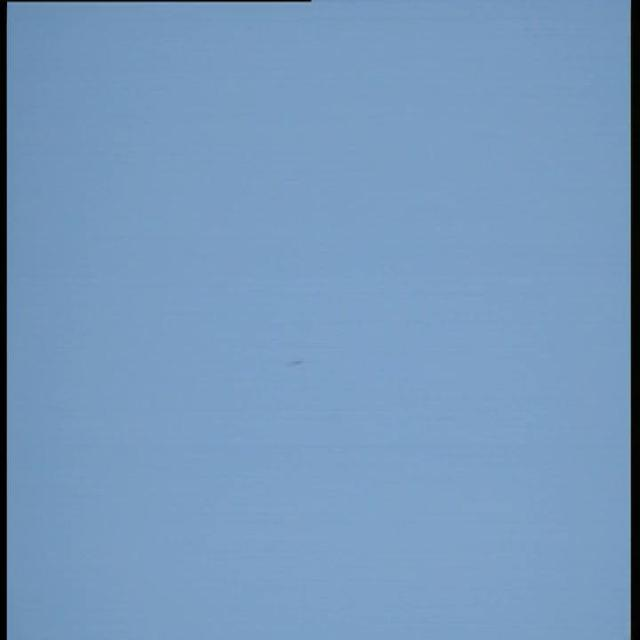drone: (274, 352, 310, 373)
